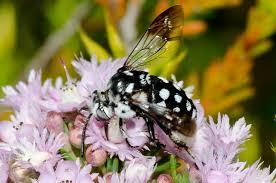Thyreus: (80, 5, 203, 169)
